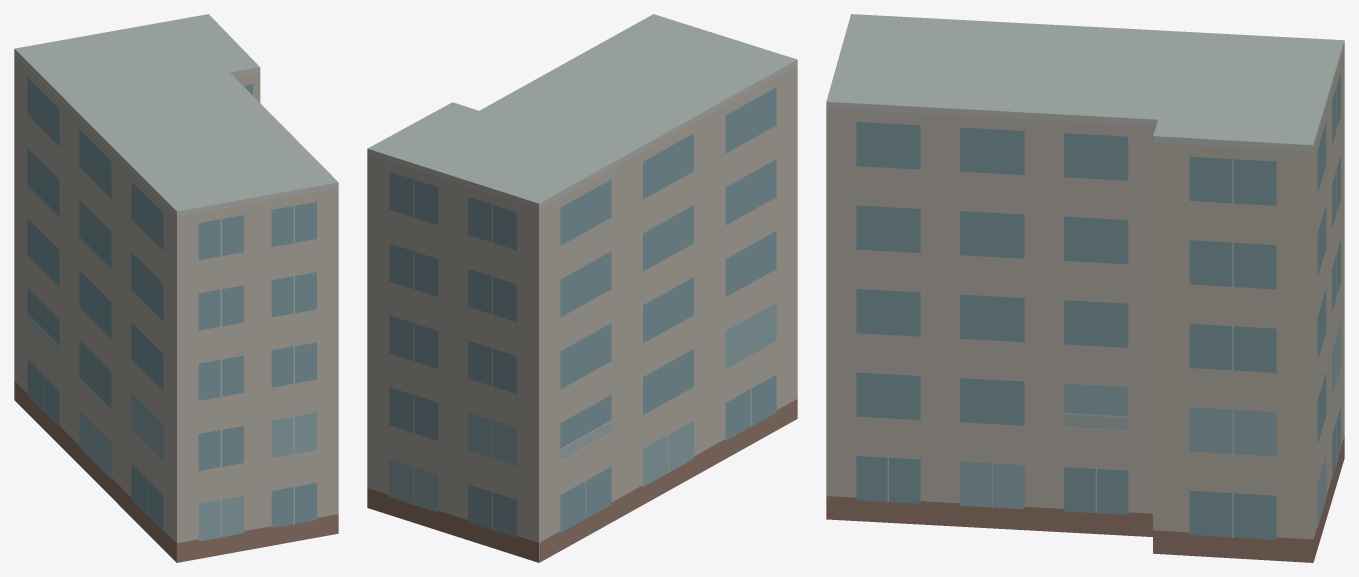
The model's file is survey-upis-32984379.glb.
3 renders of one model, left to right at view 1: azimuth 30°, elevation 25°; view 2: azimuth 150°, elevation 25°; view 3: azimuth 270°, elevation 25°, orthographic. The views are drawn at different scales.
Parts seen in each view (by area): view 1: survey-upis-32984379.tmp; view 2: survey-upis-32984379.tmp; view 3: survey-upis-32984379.tmp.
Boxes of the visible parts, x1,y1,x2,y2 form: survey-upis-32984379.tmp: (14,14,338,562); survey-upis-32984379.tmp: (367,14,797,562); survey-upis-32984379.tmp: (826,14,1344,562).
Bounding box in the file's own units: 10.71 × 15.87 × 17.86.
